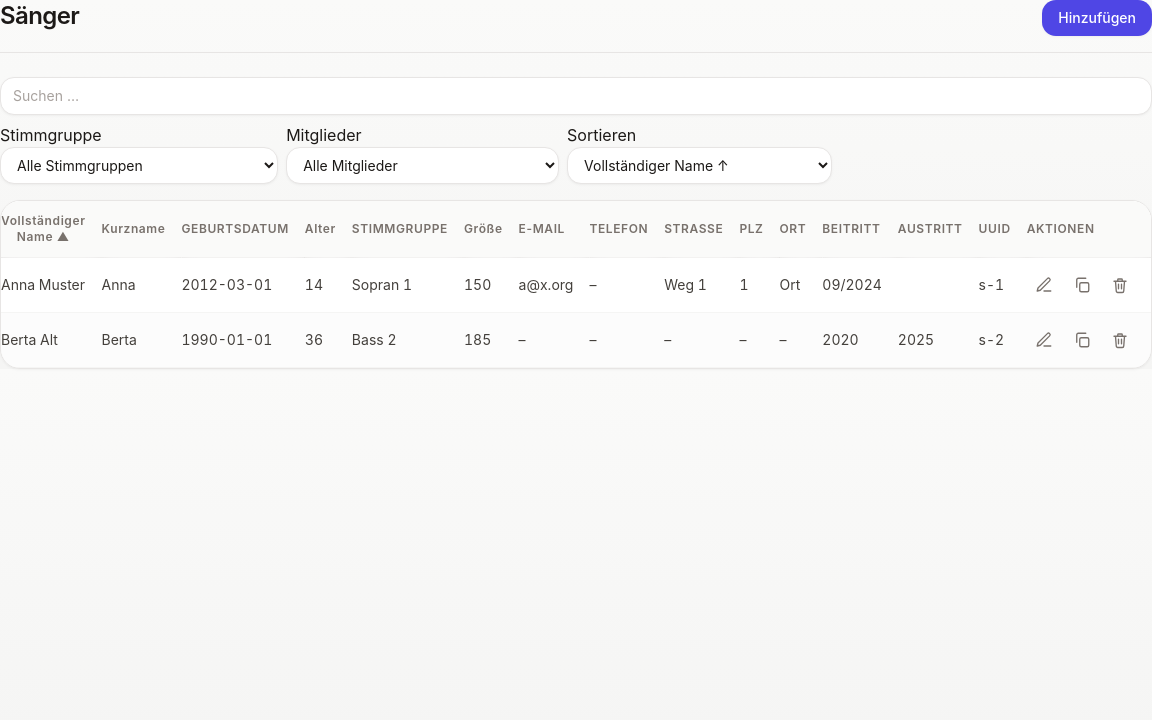
Test: SingersPage Tabelle › filters by voice group and status
Expected: the text "Anna Muster" is shown, [1,258,102,312]
Select "Bass 2" in the dropdown labelled "Stimmgruppe". click: [139, 166]
box: [0,147,278,184]
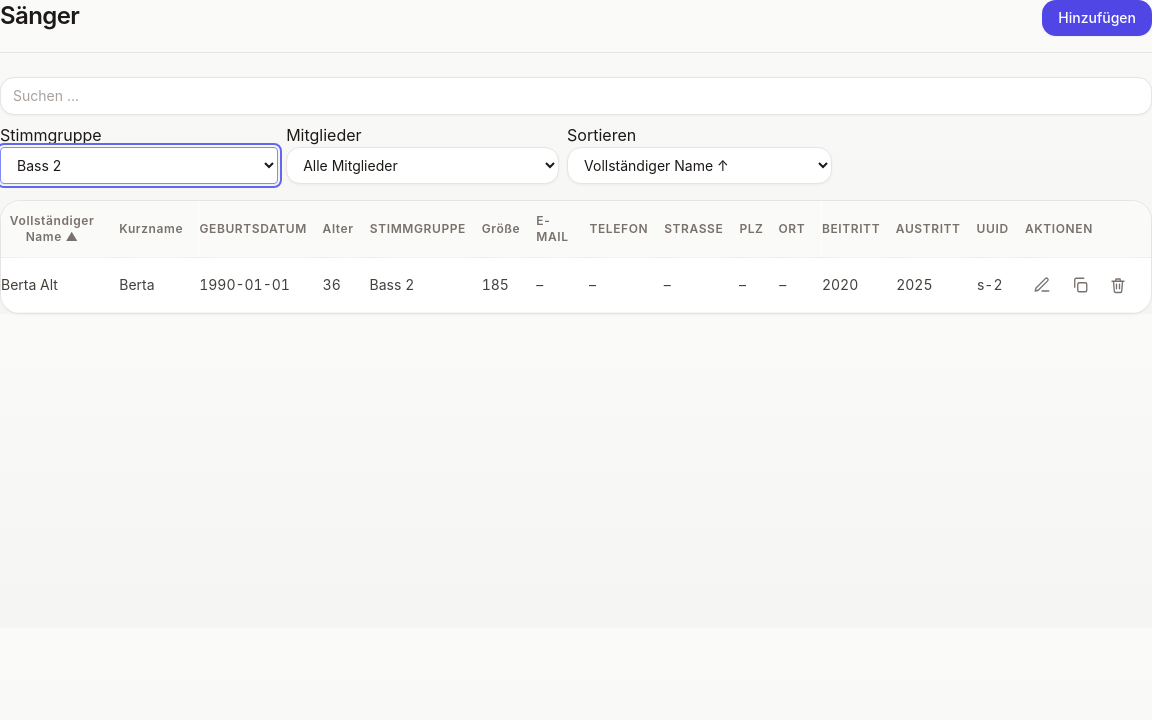
Expected: the text "Anna Muster" is gone
Select "Alle Stimmgruppen" in the dropdown labelled "Stimmgruppe". click: [139, 166]
box: [0,147,278,184]
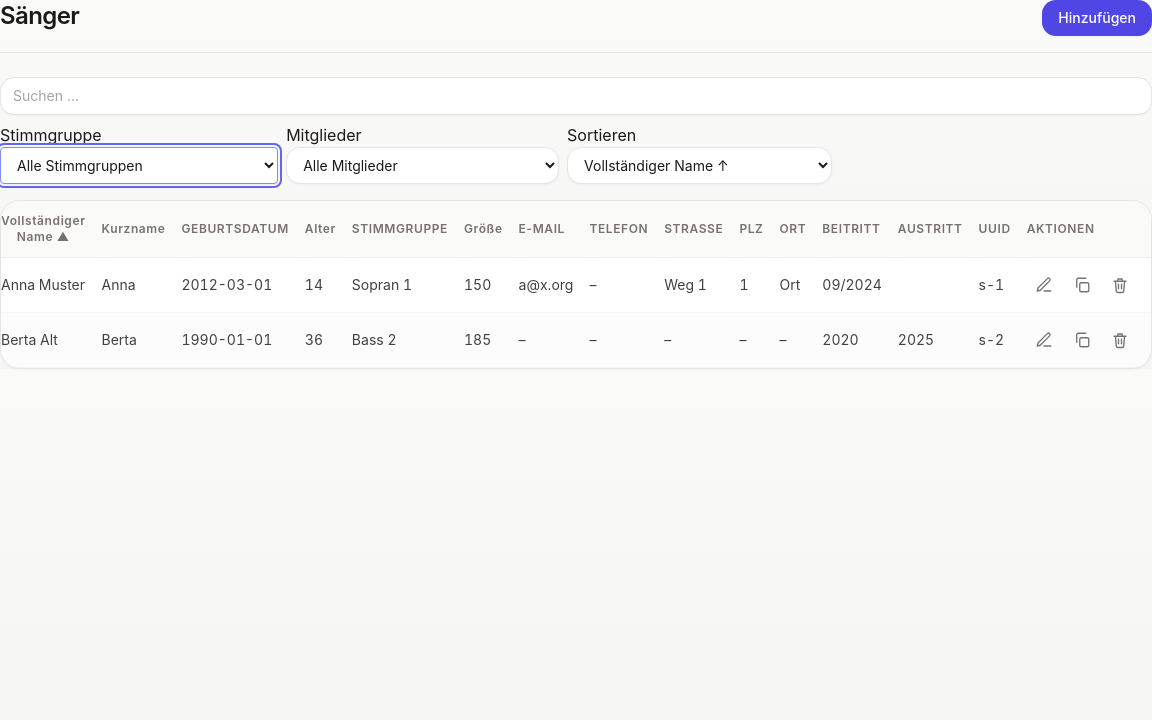
Select "Alle minderjährigen" in the dropdown labelled "Mitglieder". click: [423, 166]
box: [286,147,559,184]
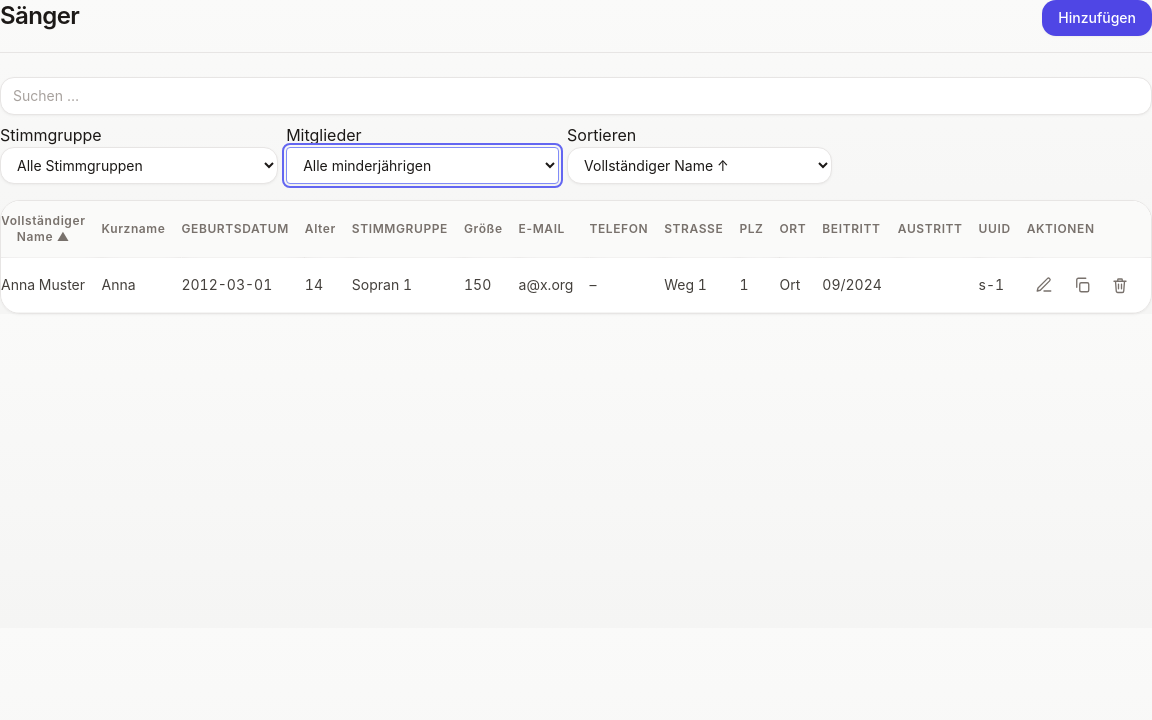
Expected: the text "Anna Muster" is shown, [1,258,102,312]
Expected: the text "Berta Alt" is gone
